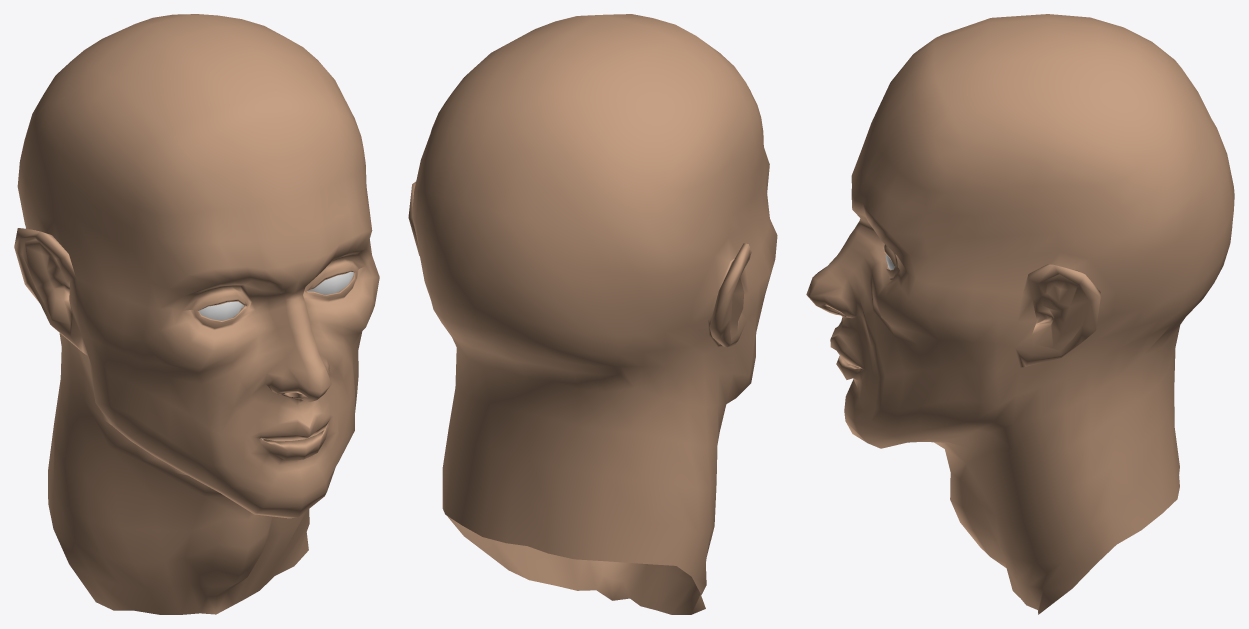
Rendered from head_neutral.glb.
3 views of the same model, side by side, from view 1: azimuth 30°, elevation 25°; view 2: azimuth 150°, elevation 25°; view 3: azimuth 270°, elevation 25° (orthographic). The views are drawn at different scales.
Visible parts, largest first — view 1: Cube, Cube.001; view 2: Cube; view 3: Cube.
Part boxes in pixels (box(x1,y1,x2,y2)): Cube: box(14, 14, 379, 614); Cube.001: box(199, 272, 353, 320); Cube: box(408, 14, 777, 614); Cube: box(806, 14, 1234, 614).
Size of the model in its own units: 5.7 by 9.55 by 6.64.
